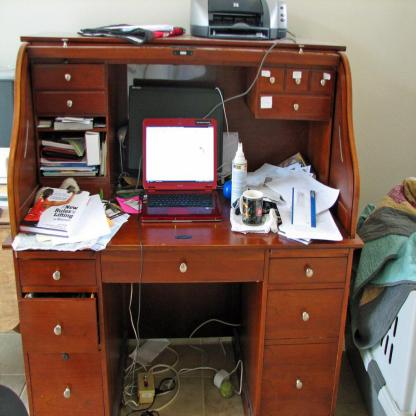board: (135, 94, 219, 232), (233, 138, 247, 212), (220, 380, 233, 401)
